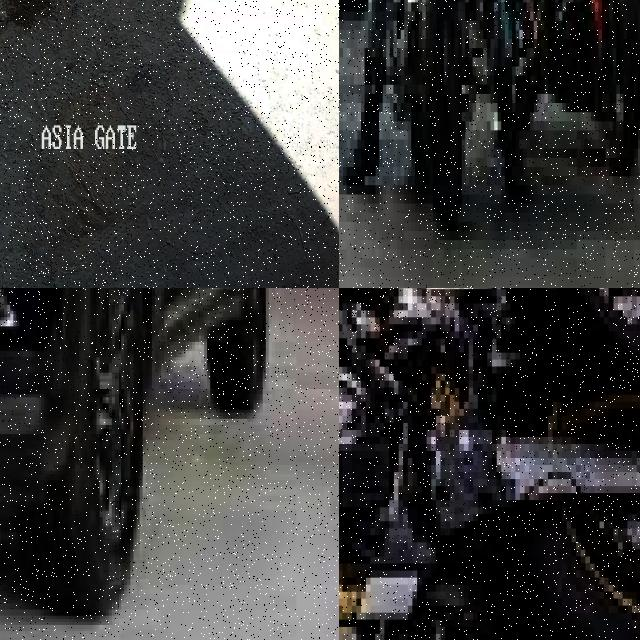bike: (339, 288, 640, 640), (501, 0, 640, 185), (389, 0, 490, 222)
car: (0, 288, 262, 637)
